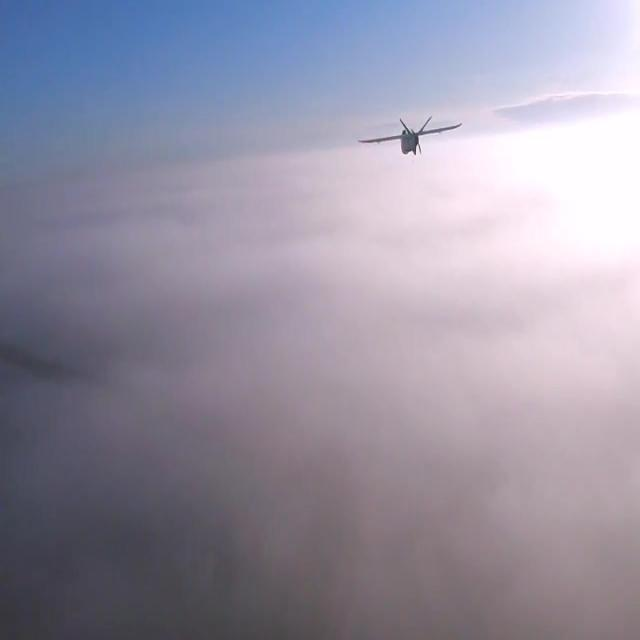iha: (390, 107, 430, 150)
